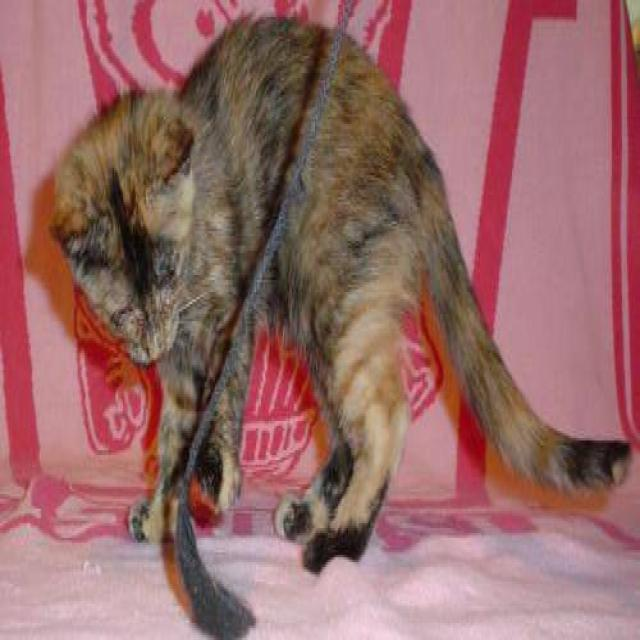cat: (49, 10, 632, 638)
